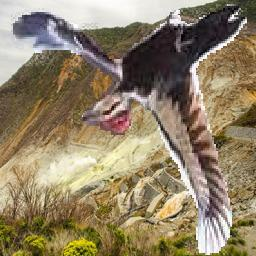Woodpecker: (5, 5, 247, 256)
